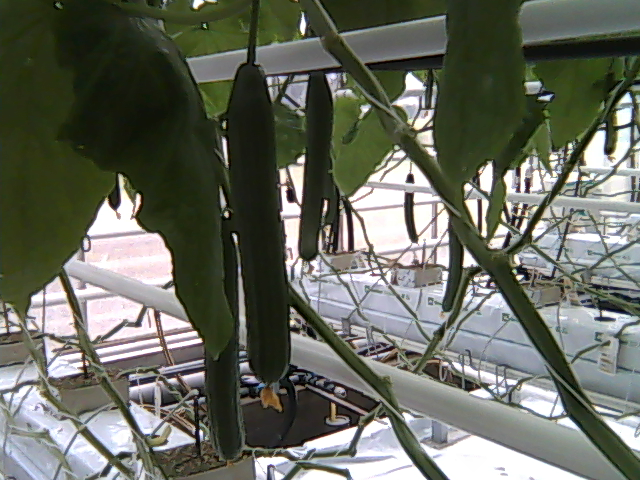concombre: (224, 60, 294, 413), (202, 204, 245, 465)
